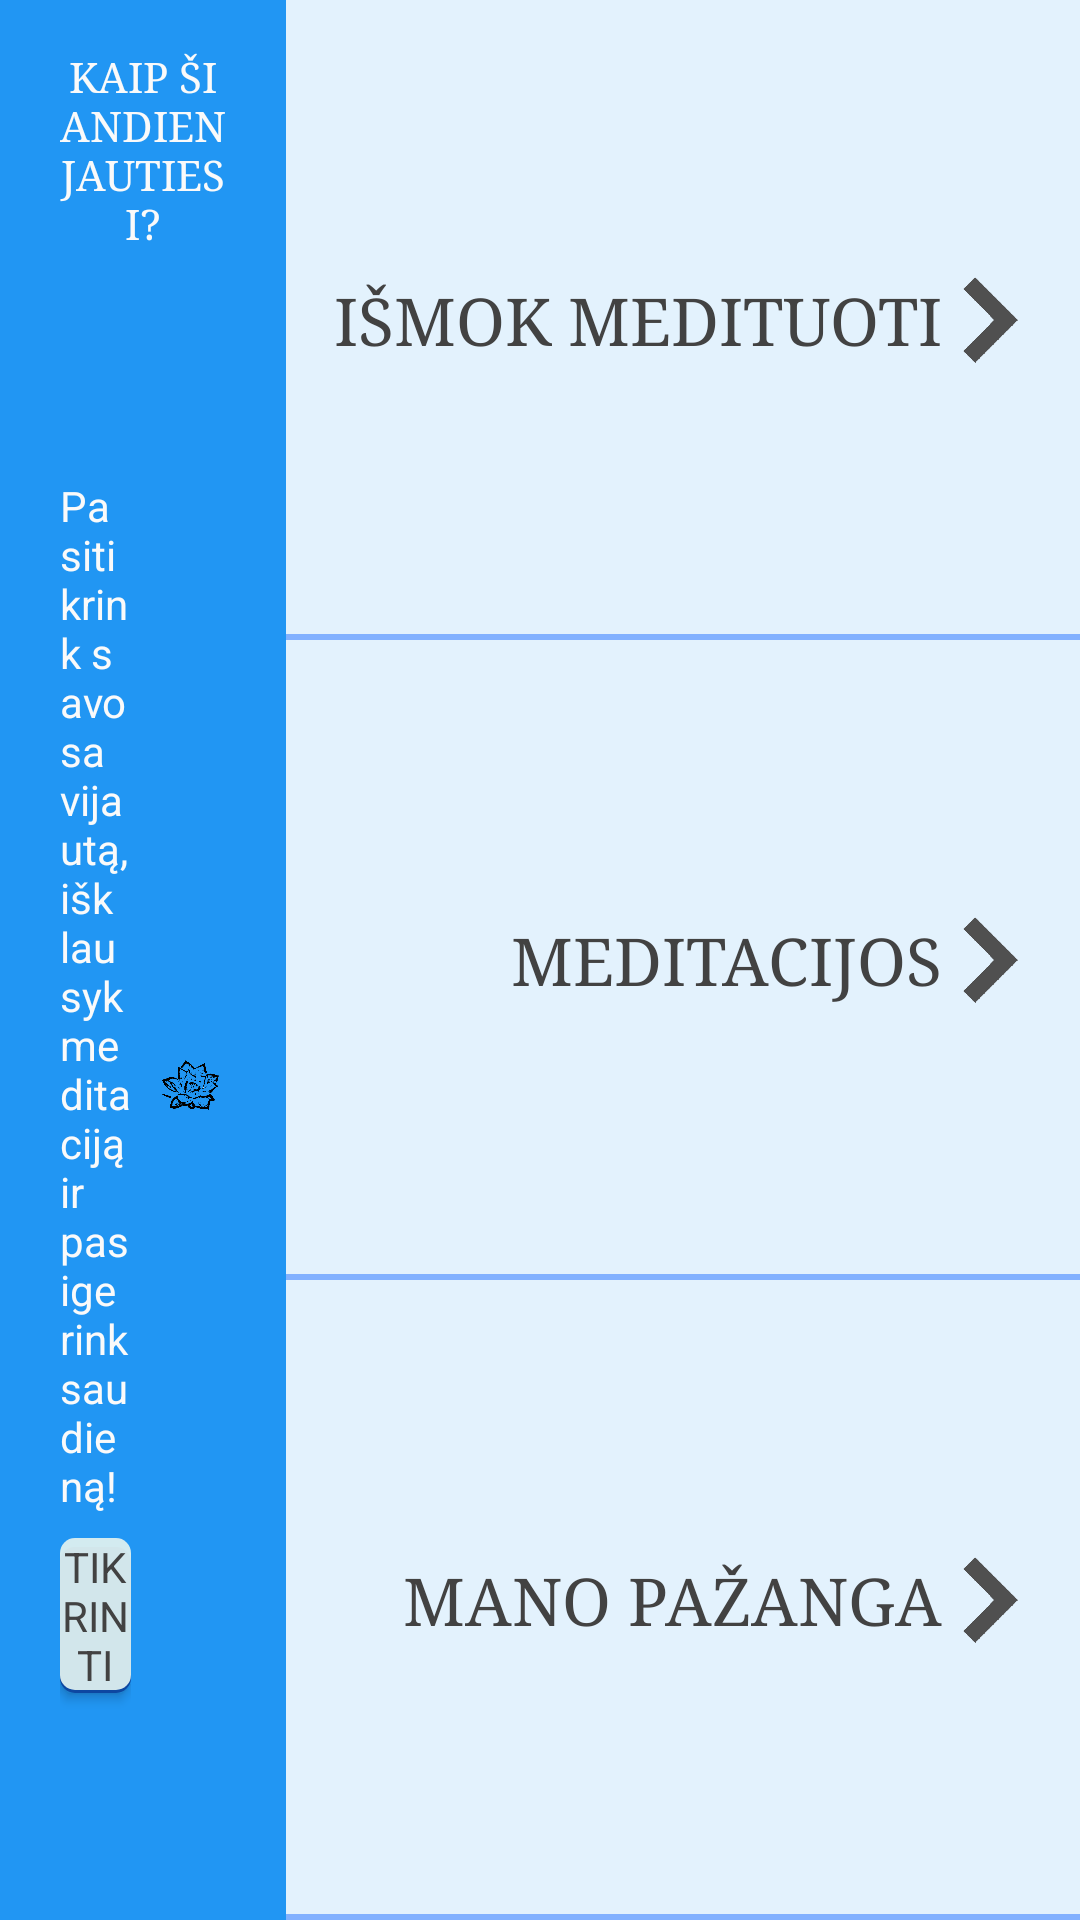

Named icons in this screenshot (1080x1920) and their centers, point (x, y):
Arrow: point (991, 320), point (991, 960), point (991, 1600)
